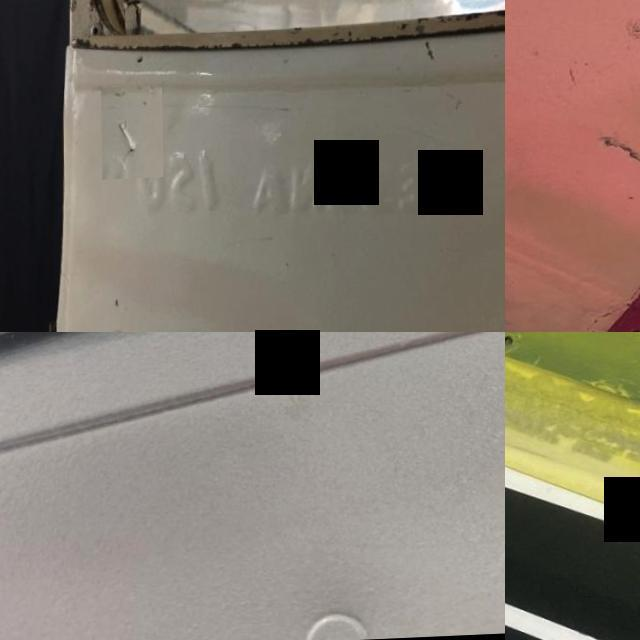Crack: (61, 3, 505, 60), (589, 126, 640, 244), (100, 87, 162, 181), (405, 26, 464, 86)
Missing_Fastener: (505, 338, 515, 349)
